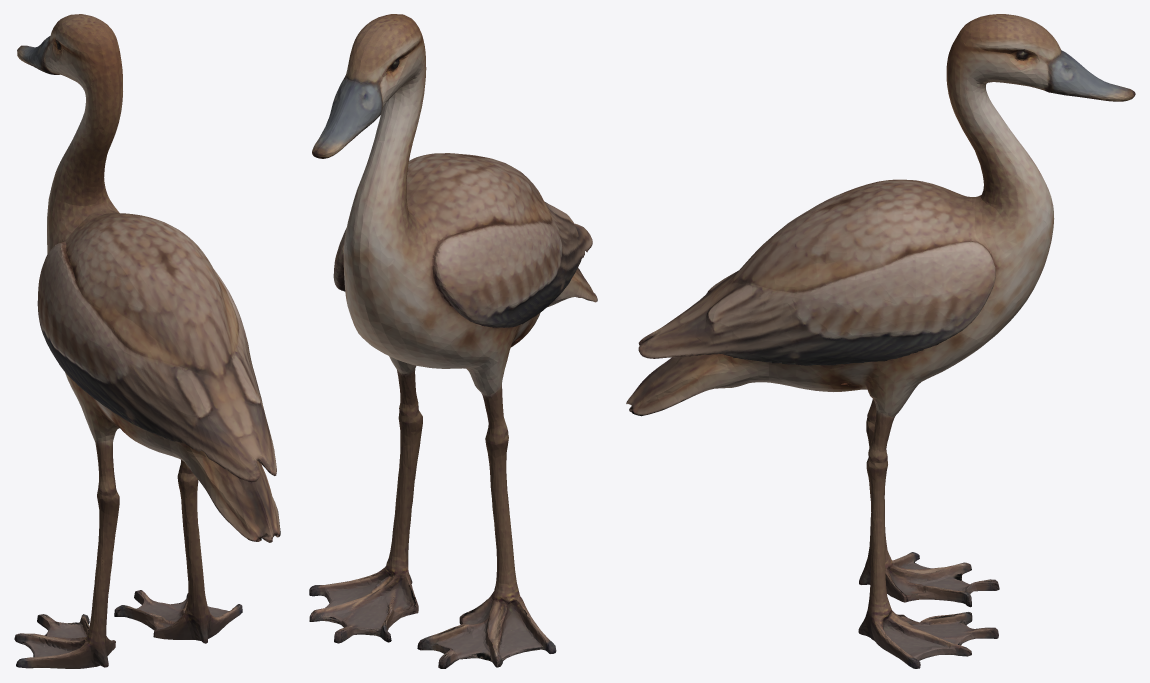
3 renders of one model, left to right at view 1: azimuth 30°, elevation 25°; view 2: azimuth 150°, elevation 25°; view 3: azimuth 270°, elevation 25°, orthographic. The views are drawn at different scales.
Visible parts, largest first — view 1: world; view 2: world; view 3: world.
Part boxes in pixels (x1=…): world: x1=14, y1=14, x2=280, y2=668; world: x1=309, y1=14, x2=597, y2=668; world: x1=626, y1=14, x2=1135, y2=668.
Size of the model in its own units: 0.4029 by 1 by 0.7749.
1 material, 1 textured.
